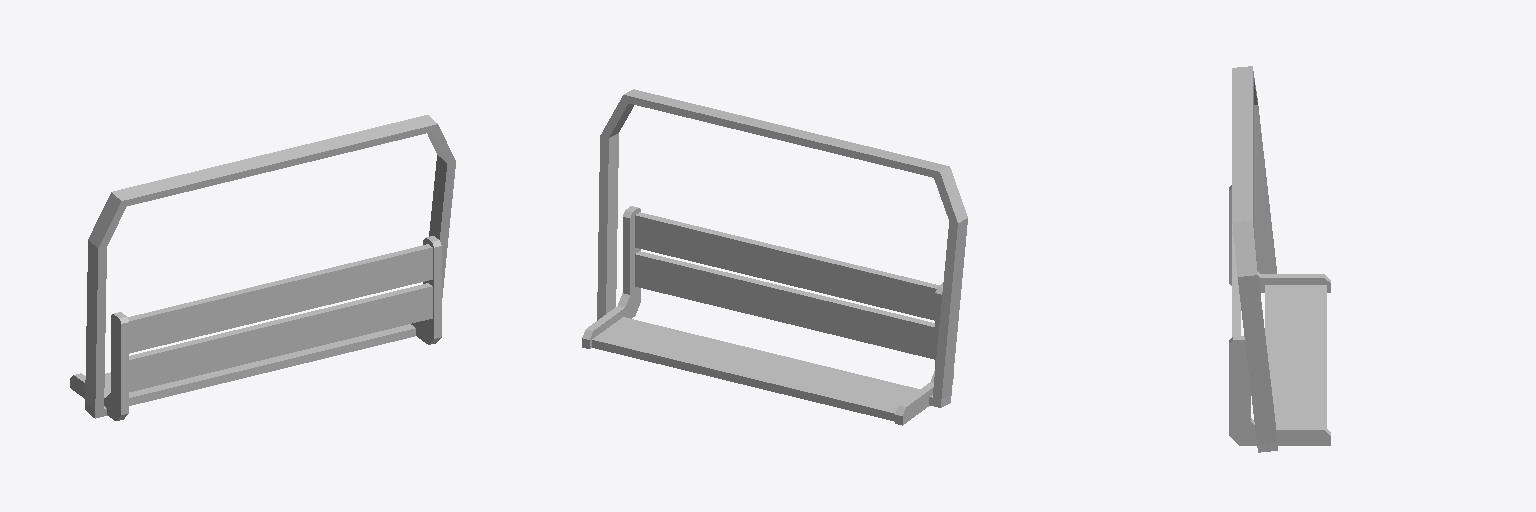
The model's file is Unity standart.obj.
3 renders of one model, left to right at view 1: azimuth 30°, elevation 25°; view 2: azimuth 150°, elevation 25°; view 3: azimuth 270°, elevation 25°, orthographic.
Parts seen in each view (by area): view 1: Cube.3, Cube.2, Cube.1, Cube, Cube.3_1; view 2: Cube.3, Cube, Cube.2, Cube.1, Cube.3_1; view 3: Cube.3, Cube, Cube.3_1, Cube.2.
Boxes of the visible parts, x1,y1,x2,y2 form: Cube.3: [85, 115, 455, 418]; Cube.2: [127, 244, 432, 353]; Cube.1: [129, 283, 432, 391]; Cube: [104, 324, 415, 405]; Cube.3_1: [70, 236, 441, 420]; Cube.3: [597, 89, 967, 407]; Cube: [592, 317, 919, 421]; Cube.2: [635, 212, 938, 320]; Cube.1: [635, 251, 934, 359]; Cube.3_1: [582, 206, 953, 425]; Cube.3: [1232, 66, 1277, 452]; Cube: [1265, 285, 1326, 428]; Cube.3_1: [1229, 185, 1330, 445]; Cube.2: [1232, 223, 1240, 336].
Bounding box in the file's own units: 232 × 140 × 57.71.